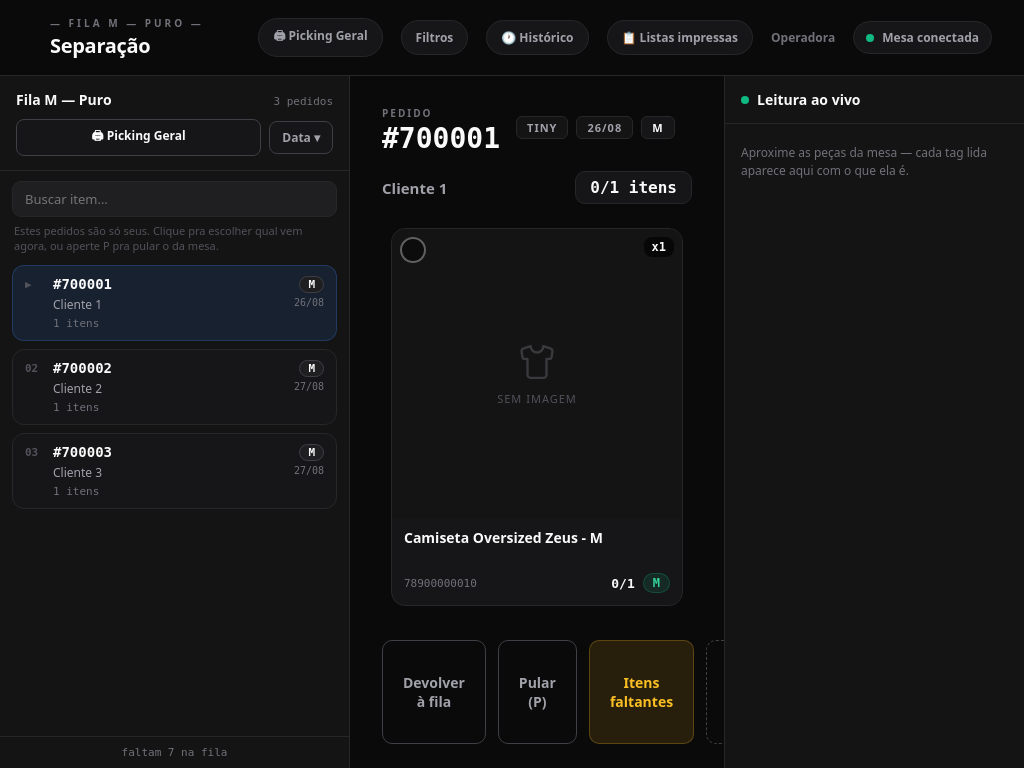
Test case: seletor Data com filtro de produto ativo › 'Até ontem' manda só a ponta 'ate' (sem 'de') e o gatilho mostra o recorte
Click the button "Data ▾".
click(301, 138)  # box [269,121,333,154]
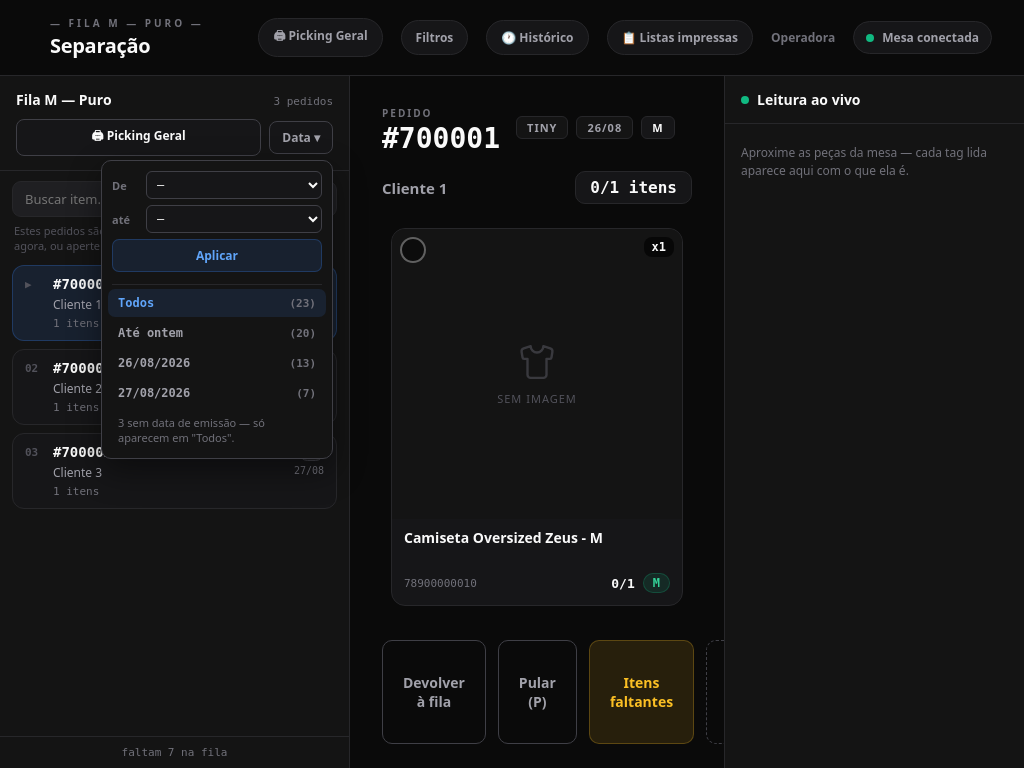
Click the button "Até ontem (20)".
click(217, 333)  # box [108,319,326,347]
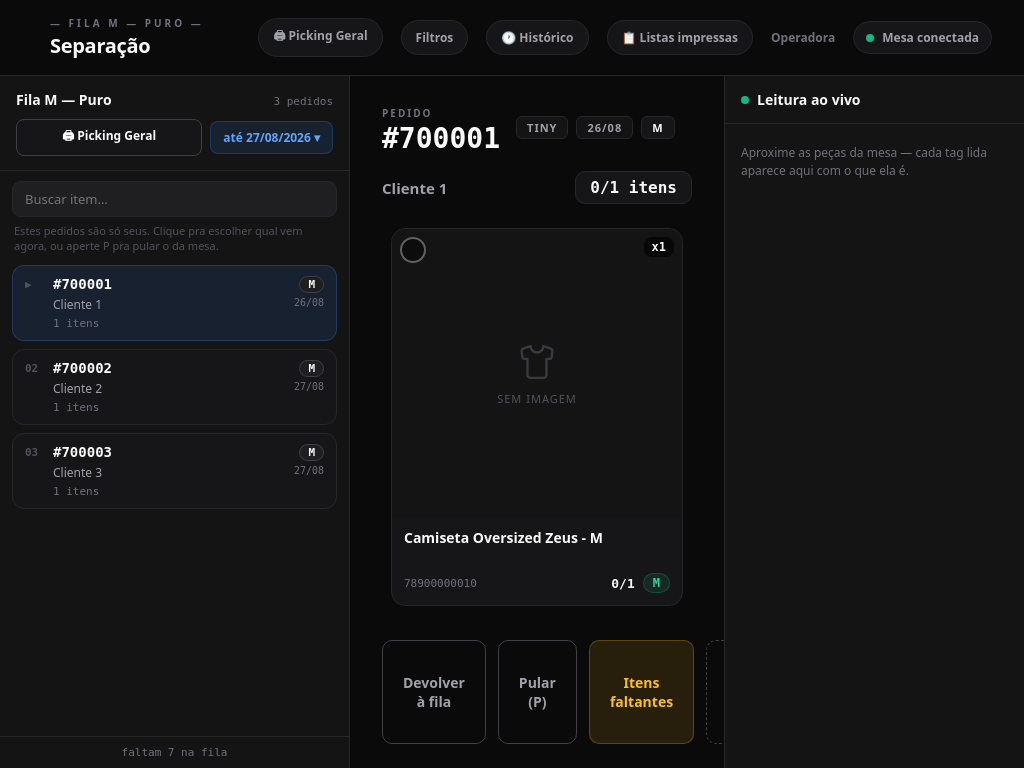
Result: the button "até 27/08/2026 ▾" is shown at [210,121,333,154]
